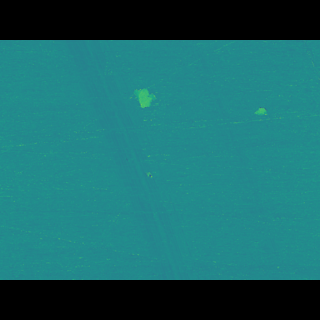Loch: (56, 69, 202, 249), (186, 74, 295, 251), (129, 103, 166, 125), (253, 117, 270, 130)
